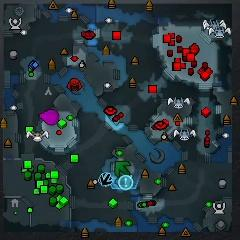Other: (118, 175, 134, 190)
p3: (38, 109, 60, 125)
x3Clone: (100, 173, 112, 185)
x4: (114, 161, 131, 176)
